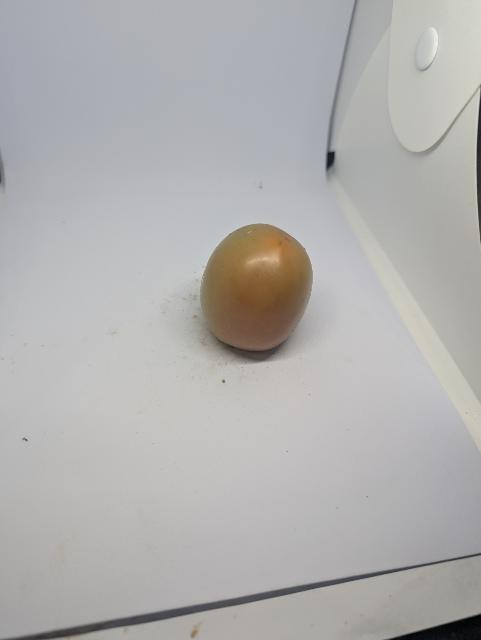turning: (194, 220, 321, 362)
